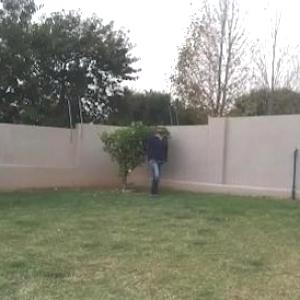follow: (146, 120, 165, 199)
